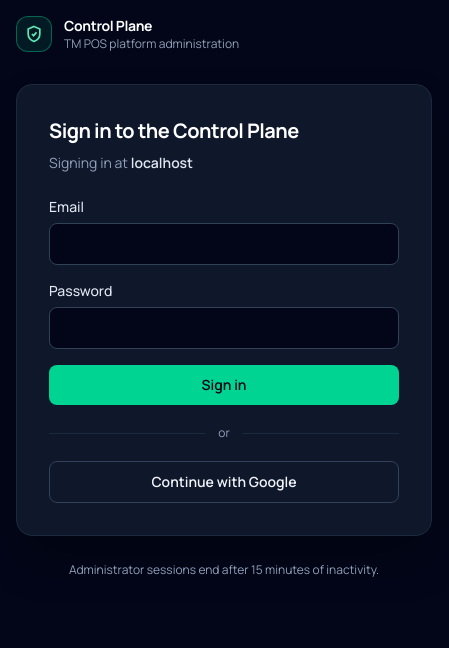
Test: console sign-in › keeps a rate limit or an outage distinct from a denial: the server rate-limits the exchange
Type "ops@tmpos.test" into the field labelled "Email". click: (224, 244)
box: [49,223,399,265]
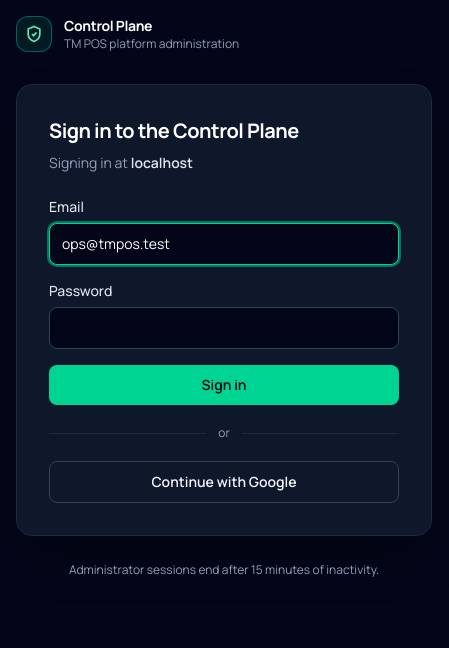
Type "correct horse" into the password field labelled "Password". click: (224, 328)
box: [49,307,399,349]
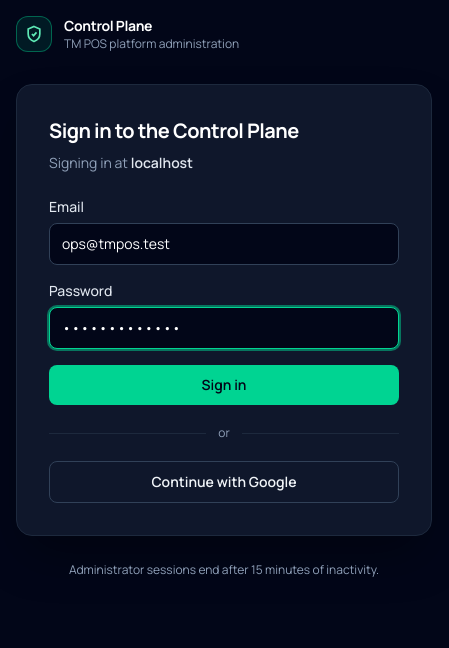
Click the button "Sign in". click: (224, 385)
box: [49,365,399,405]
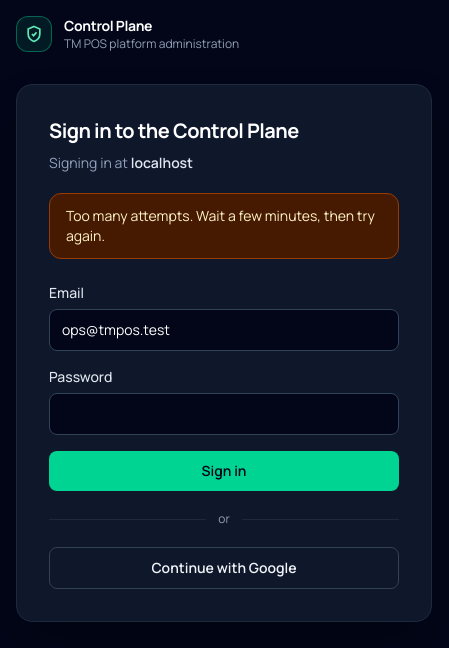
Expected: the message reads "Too many attempts. Wait a few minutes, then try again.", [66,206,375,245]
